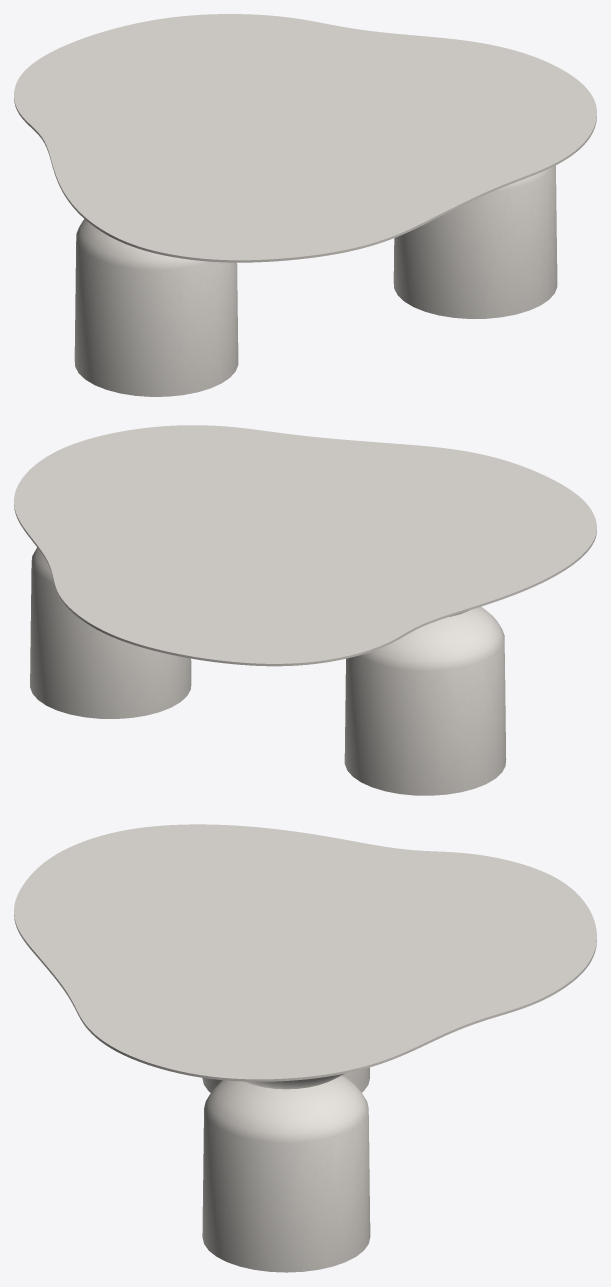
File: pearlwhite_topone_facet_tornado.glb
The picture shows the model from 3 angles, top to bottom: view 1: azimuth 30°, elevation 25°; view 2: azimuth 150°, elevation 25°; view 3: azimuth 270°, elevation 25°; orthographic projection. The views are drawn at different scales.
Visible parts, largest first — view 1: facet_topone, tornado; view 2: facet_topone, tornado; view 3: facet_topone, tornado.
Boxes of the visible parts, bbox=[...] form: facet_topone: bbox=[14, 14, 596, 262]; tornado: bbox=[74, 165, 557, 396]; facet_topone: bbox=[14, 425, 596, 666]; tornado: bbox=[30, 547, 506, 795]; facet_topone: bbox=[14, 824, 596, 1081]; tornado: bbox=[202, 1067, 370, 1272].
Bounding box in the file's own units: 6.83 × 2.5 × 6.6.
Materials: 1 (1 with a texture image).
